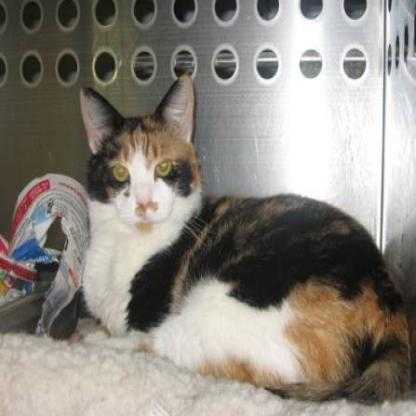cat: (60, 93, 287, 308)
